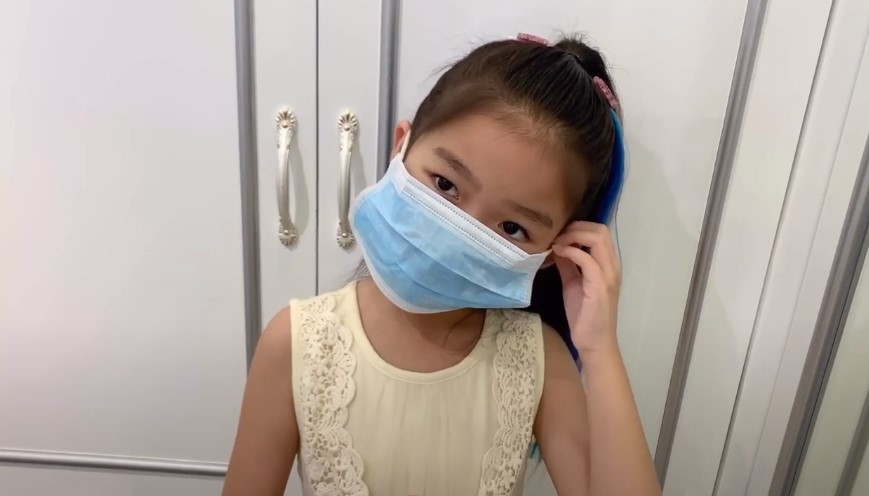face_with_mask: (347, 40, 619, 322)
